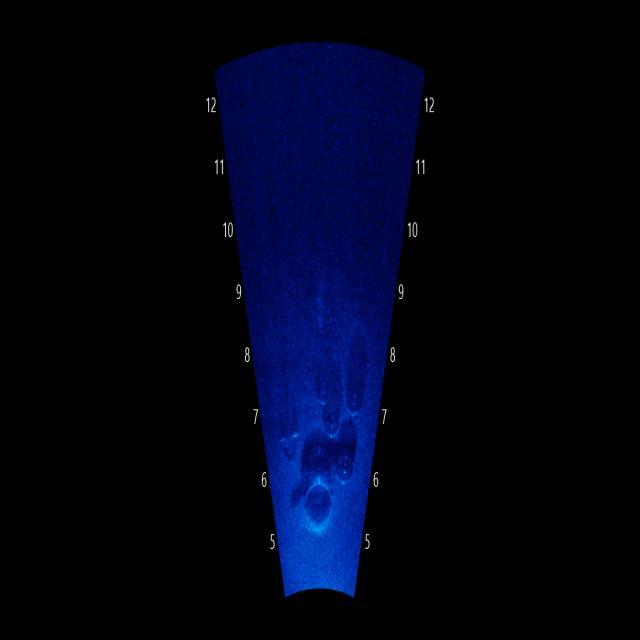circle: (300, 471, 340, 542)
